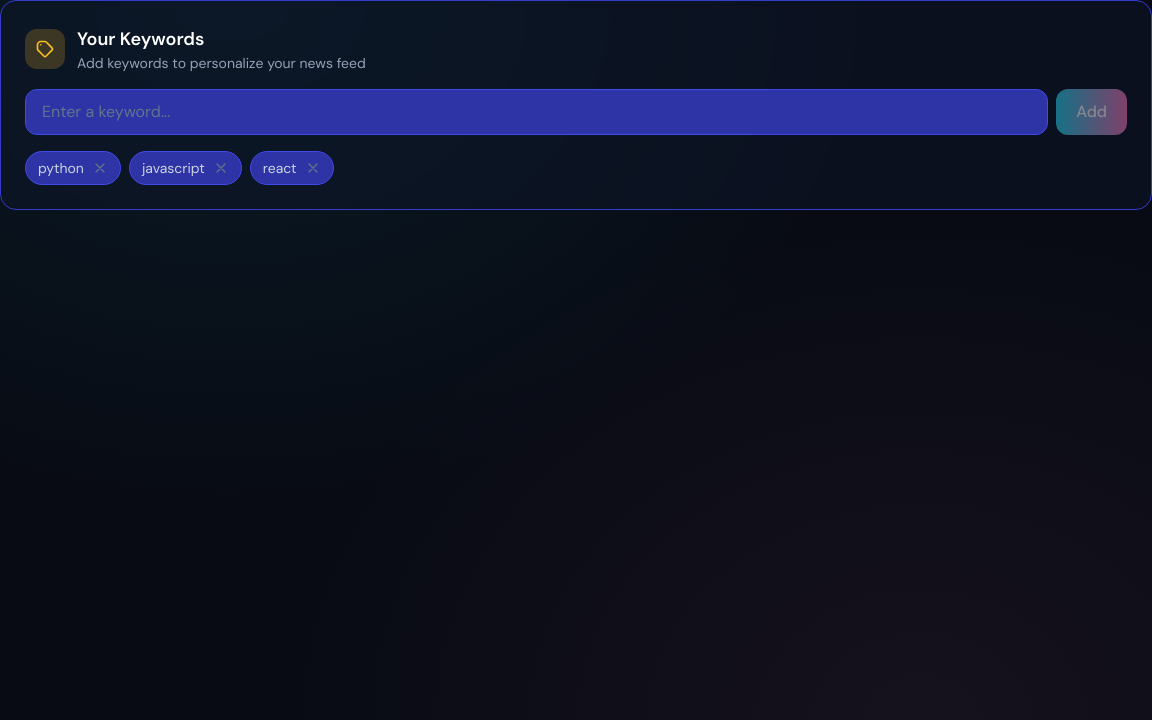
Test: KeywordManager › Deleting Keywords › shows error message when deleteKeyword fails
What coordinates should you click on to do the following:
click the button without text next to "python"
I would click on:
 (100, 168)
Its box is [92, 160, 108, 176].
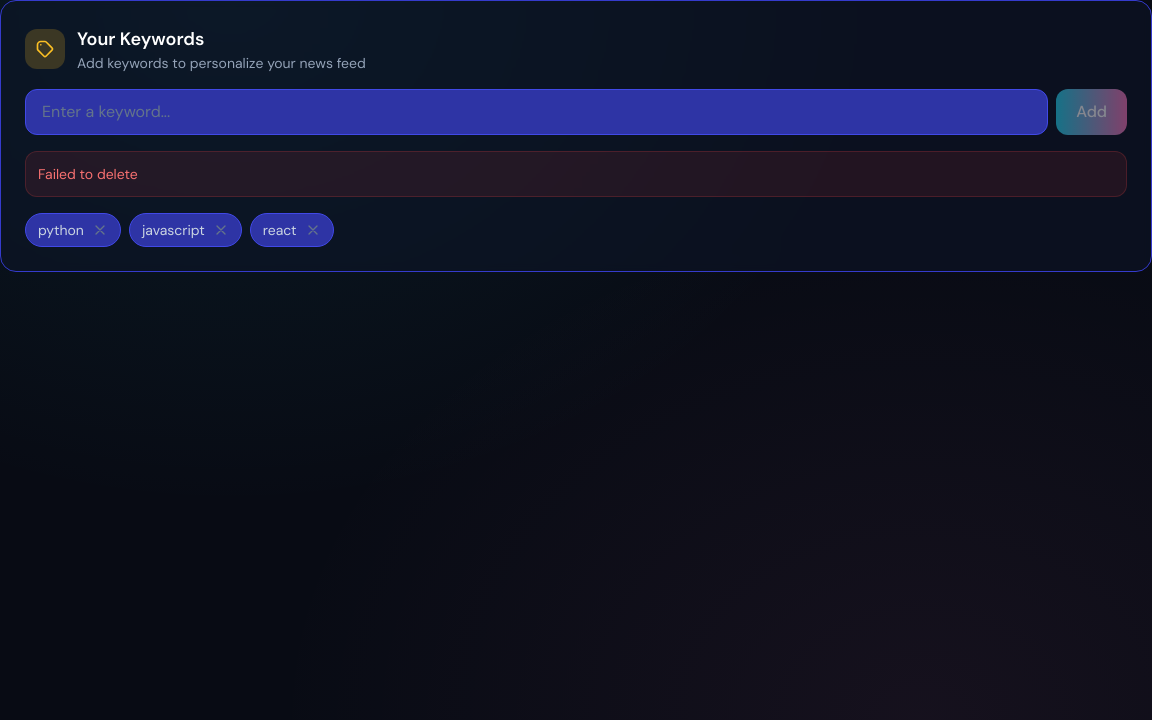
Expected: the text "Failed to delete" is shown, [25, 151, 1127, 197]
